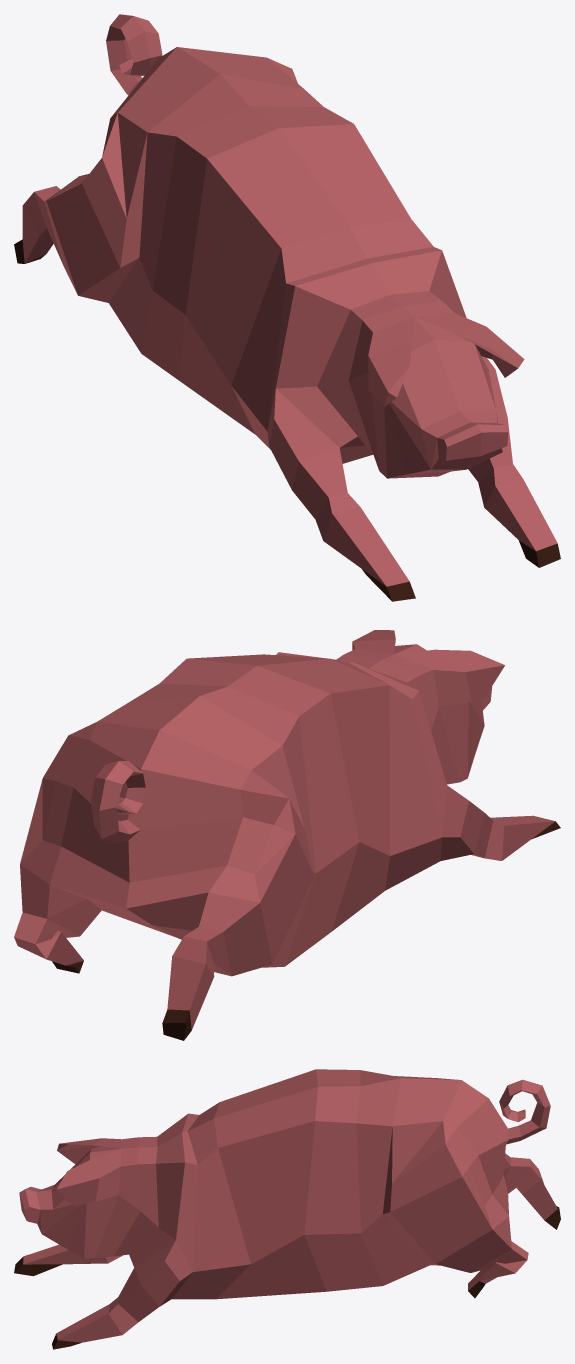
The model's file is Pig_000021.obj.
3 views of the same model, one above another, from view 1: azimuth 30°, elevation 25°; view 2: azimuth 150°, elevation 25°; view 3: azimuth 270°, elevation 25° (orthographic). The views are drawn at different scales.
Parts seen in each view (by area): view 1: Pig_Cylinder; view 2: Pig_Cylinder; view 3: Pig_Cylinder.
Part boxes in pixels (<box>): Pig_Cylinder: <box>14,14,560,601</box>; Pig_Cylinder: <box>14,630,560,1040</box>; Pig_Cylinder: <box>14,1069,560,1349</box>.
Size of the model in its own units: 3.31 by 4.47 by 9.24.
